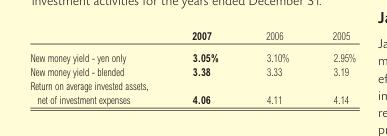table: (29, 28, 355, 105)
table column: (29, 28, 169, 105), (169, 28, 241, 105), (241, 28, 310, 105), (310, 28, 355, 105)
table column header: (29, 28, 355, 45)
table row: (29, 77, 355, 105), (29, 45, 355, 63), (29, 28, 355, 45), (29, 63, 355, 77)
